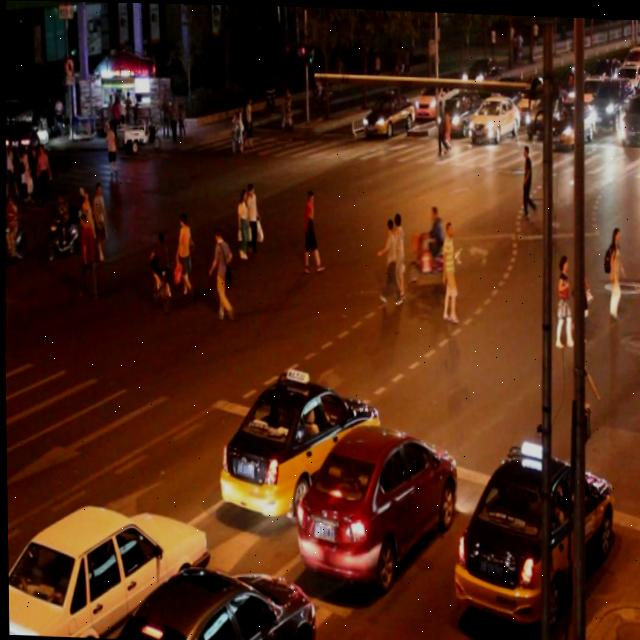car: (451, 447, 612, 627), (6, 497, 207, 640), (294, 424, 457, 581), (218, 370, 378, 517), (81, 560, 313, 640), (467, 91, 517, 140), (434, 82, 479, 135), (365, 84, 410, 136)
